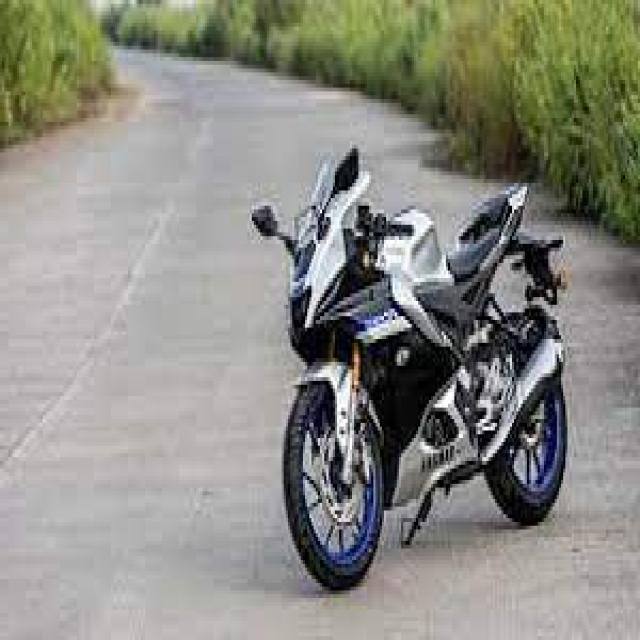bike: (250, 142, 570, 590)
